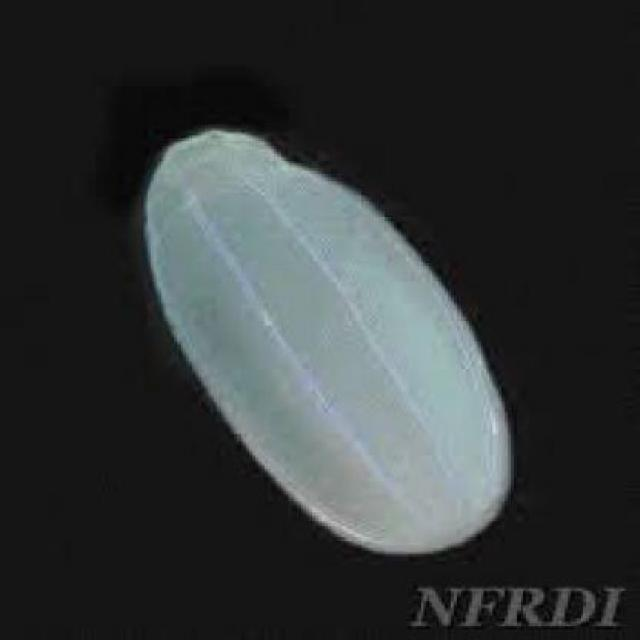Jellyfish: (132, 116, 517, 564)
